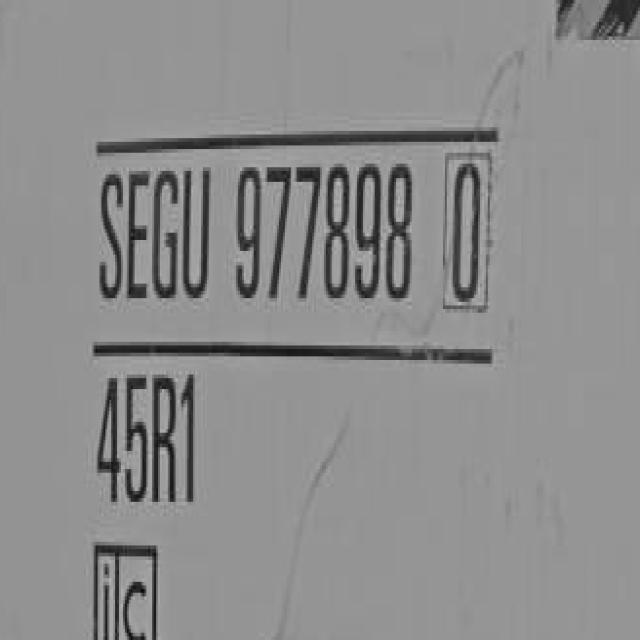dv: (439, 150, 490, 314)
owner: (90, 164, 215, 316)
serial: (230, 159, 419, 312)
size: (92, 362, 204, 515)
